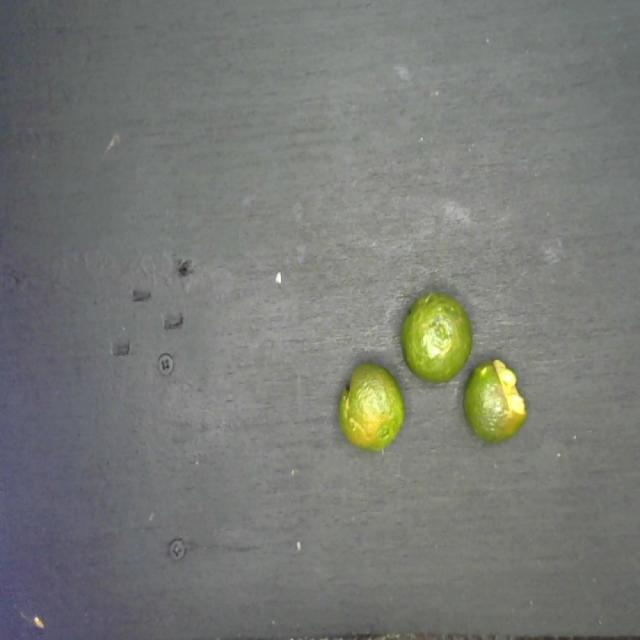biodegradable: (329, 279, 534, 452)
